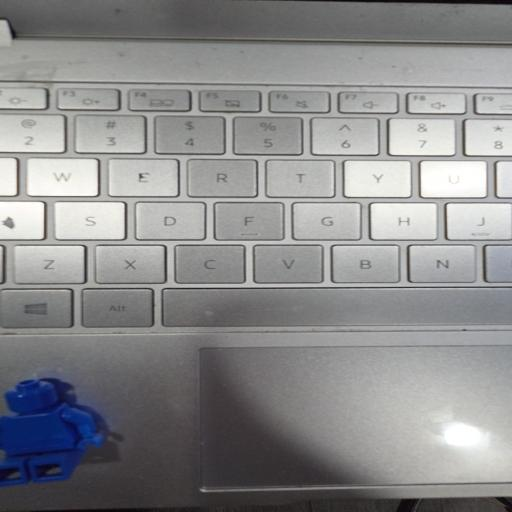Blue: (0, 379, 104, 485)
